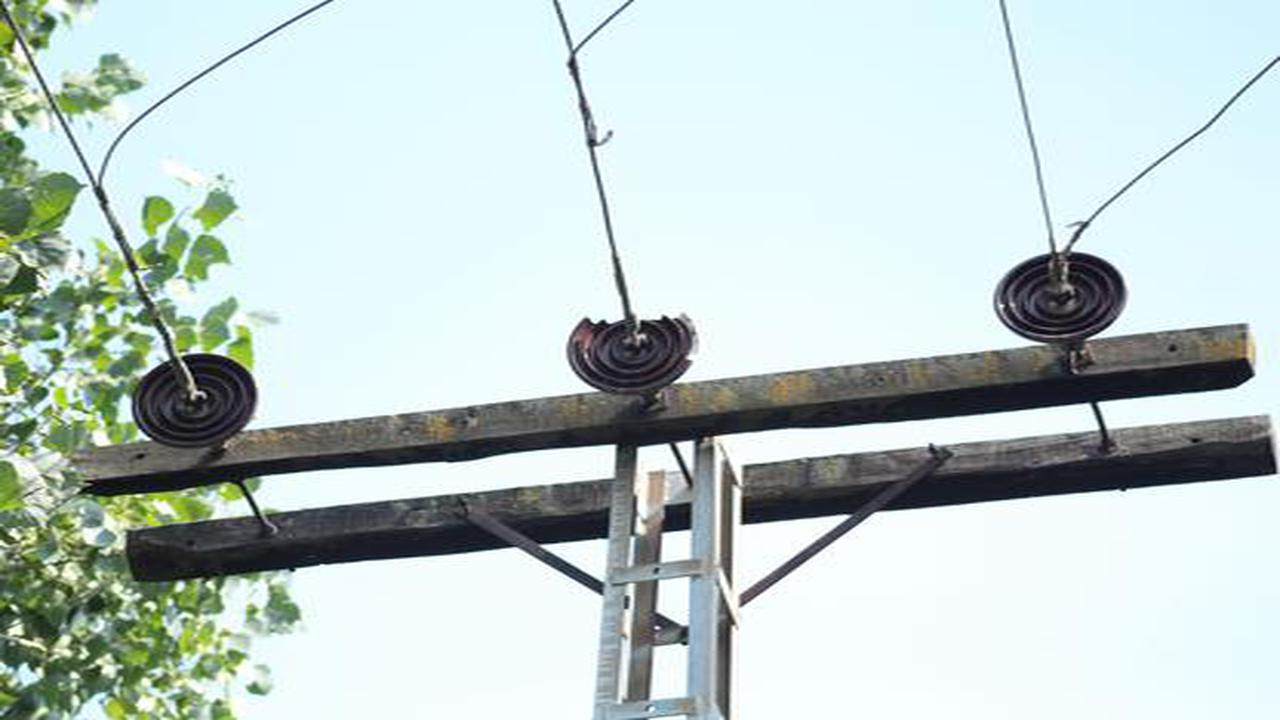defect_disc: (562, 305, 711, 398)
insulator_disc: (991, 249, 1132, 344), (131, 354, 261, 445)
